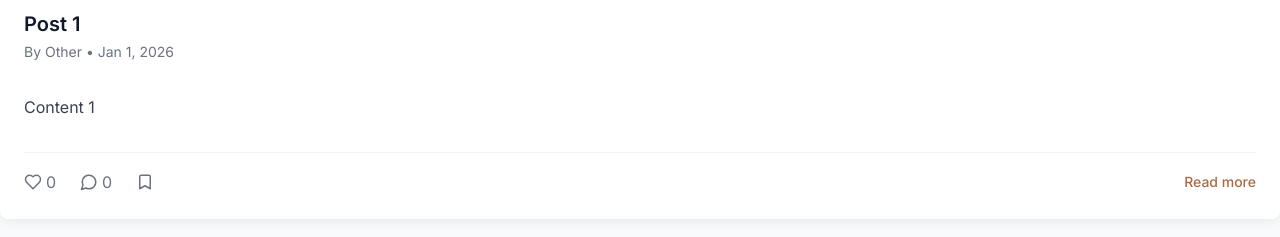
bookmarks › PostCard toggles a bookmark through the API
Click the button named "Bookmark post" at (145, 182), box [136, 173, 154, 191]
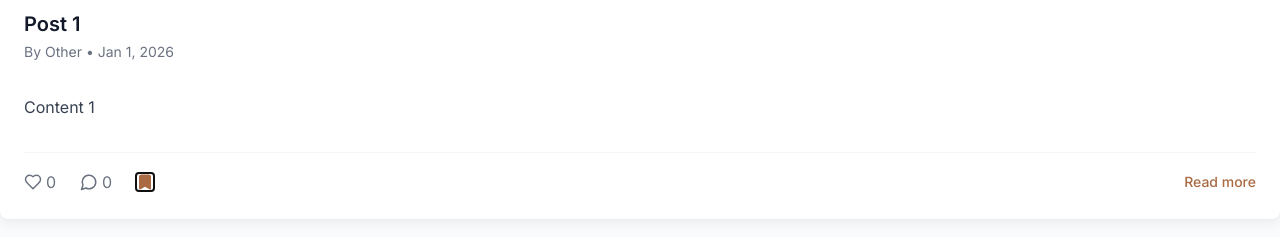
Result: the button named "Remove bookmark" is pressed at [136, 173, 154, 191]
